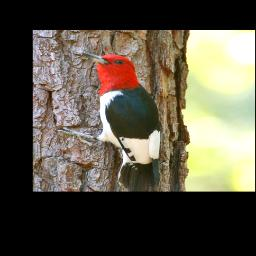Woodpecker: (56, 52, 163, 190)
